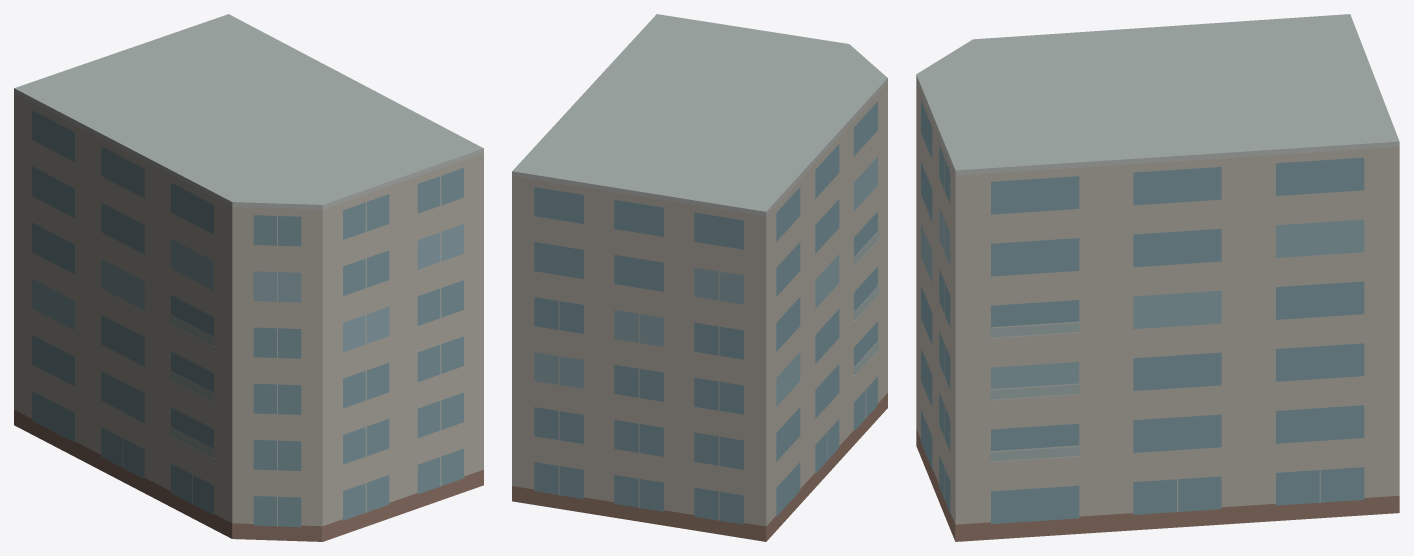
File: survey-upis-32979305.glb
3 renders of one model, left to right at view 1: azimuth 30°, elevation 25°; view 2: azimuth 150°, elevation 25°; view 3: azimuth 270°, elevation 25°, orthographic. The views are drawn at different scales.
Parts seen in each view (by area): view 1: survey-upis-32979305.tmp; view 2: survey-upis-32979305.tmp; view 3: survey-upis-32979305.tmp.
Boxes of the visible parts, x1,y1,x2,y2 form: survey-upis-32979305.tmp: (14,14,483,541); survey-upis-32979305.tmp: (512,14,887,541); survey-upis-32979305.tmp: (916,14,1399,541).
Size of the model in its own units: 15.54 by 17.2 by 20.29.
